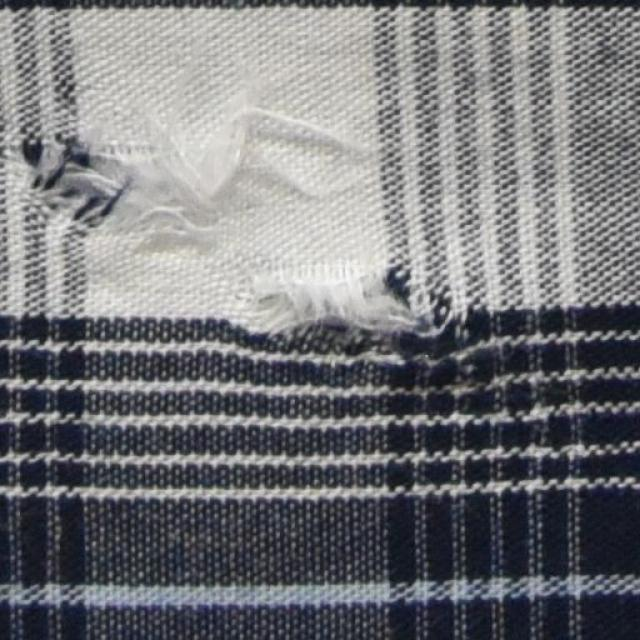Snag: (8, 100, 379, 250), (231, 250, 451, 351)
